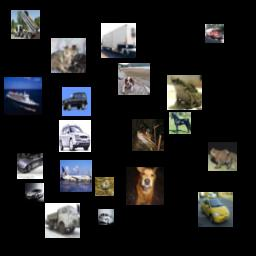airplane: (60, 160, 92, 192)
automobile: (198, 192, 233, 227), (59, 120, 91, 152), (62, 87, 91, 116), (17, 153, 43, 179), (25, 183, 44, 202), (98, 209, 114, 225)
bird: (95, 177, 114, 196)
cat: (51, 38, 86, 73)
dog: (126, 167, 164, 205), (118, 63, 150, 95)
frog: (167, 75, 202, 110), (132, 119, 164, 151), (208, 142, 237, 171)
ship: (4, 77, 42, 115)
truck: (45, 203, 80, 238), (101, 23, 136, 58), (11, 10, 40, 39), (205, 24, 224, 43)
